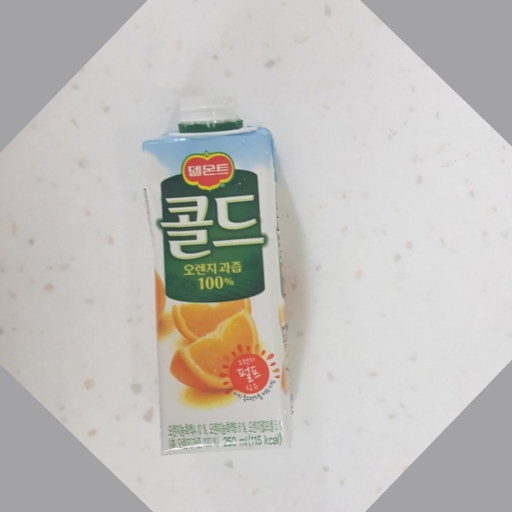Paper_0: (136, 105, 312, 463)
